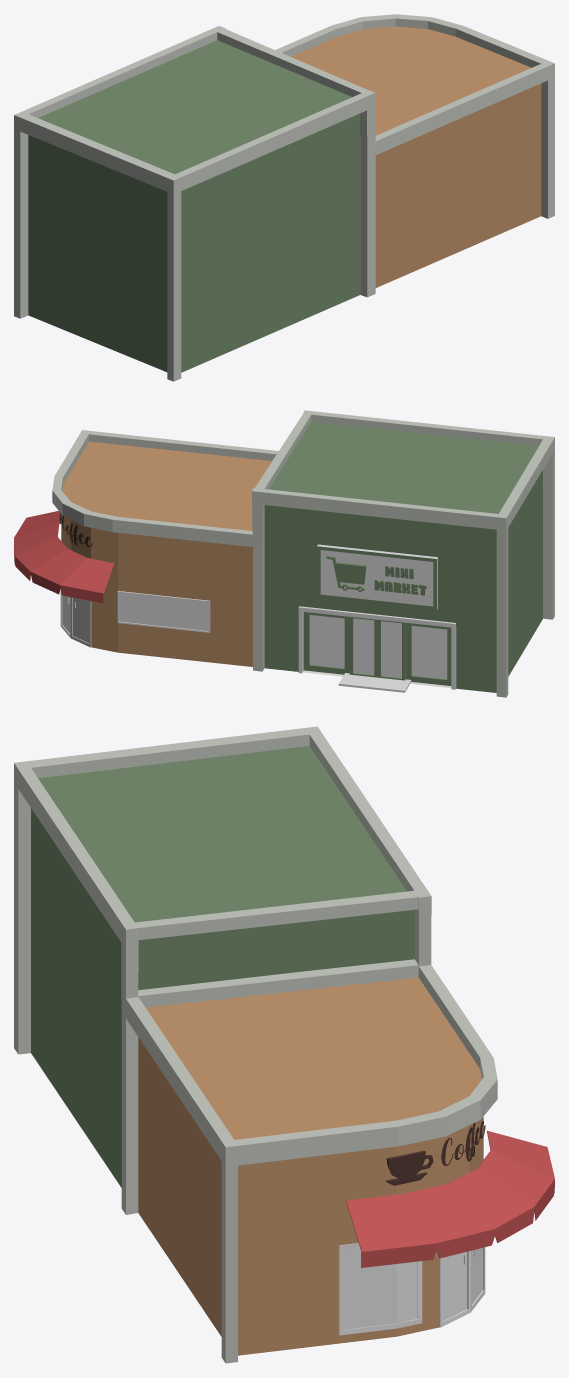
Rendered from Coffeand.fbx.
The picture shows the model from 3 angles, top to bottom: view 1: azimuth 30°, elevation 25°; view 2: azimuth 150°, elevation 25°; view 3: azimuth 270°, elevation 25°; orthographic projection. The views are drawn at different scales.
Parts seen in each view (by area): view 1: Coffe and Minimarket; view 2: Coffe and Minimarket; view 3: Coffe and Minimarket.
Part boxes in pixels (x1=…): Coffe and Minimarket: x1=14, y1=14, x2=554, y2=381; Coffe and Minimarket: x1=14, y1=410, x2=554, y2=697; Coffe and Minimarket: x1=14, y1=726, x2=554, y2=1363.
Size of the model in its own units: 3815 by 2411 by 1403.
